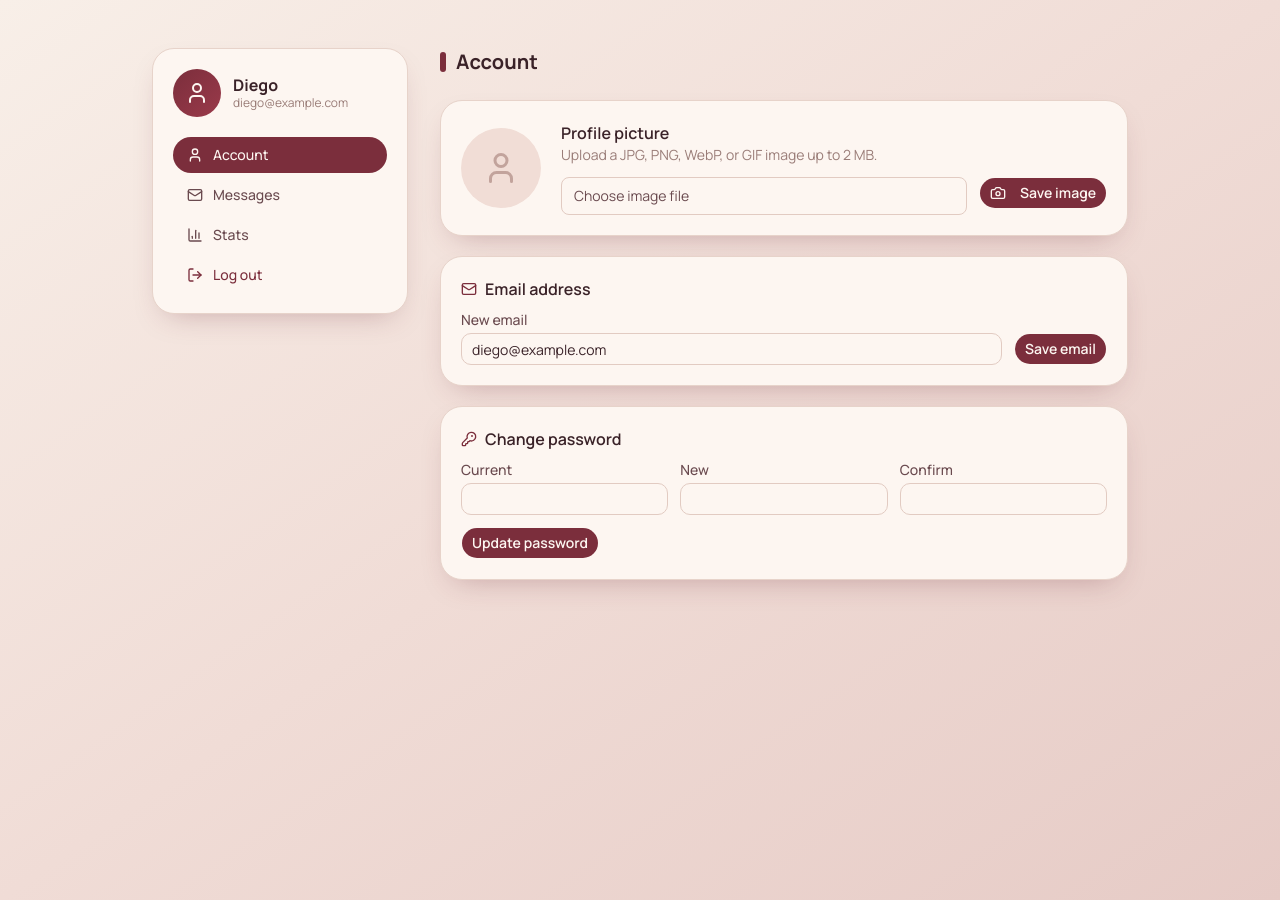
Scenario: AccountPage › shows an account-data error without losing the account page
Click the button "Messages".
click(280, 195)  # box top-left (173, 177), bottom-right (387, 213)
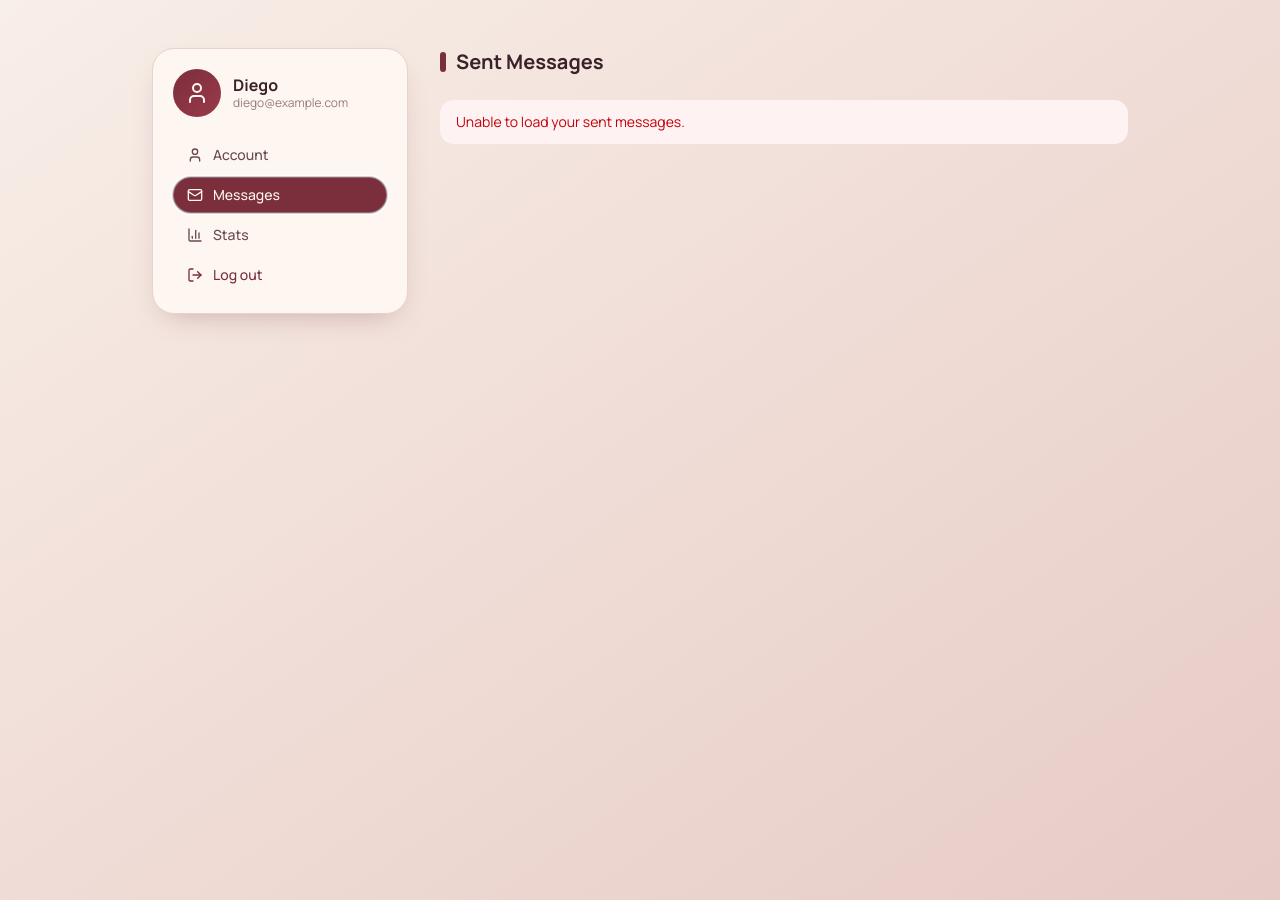
Expected: the text "Diego" is shown, top-left (233, 74), bottom-right (278, 96)
Expected: the message reads "Unable to load your sent messages.", top-left (456, 112), bottom-right (685, 131)
